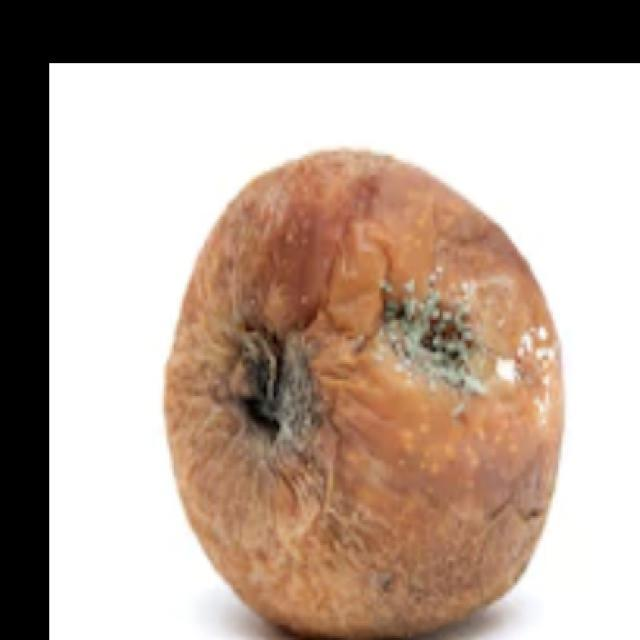Rotten: (161, 150, 567, 640)
